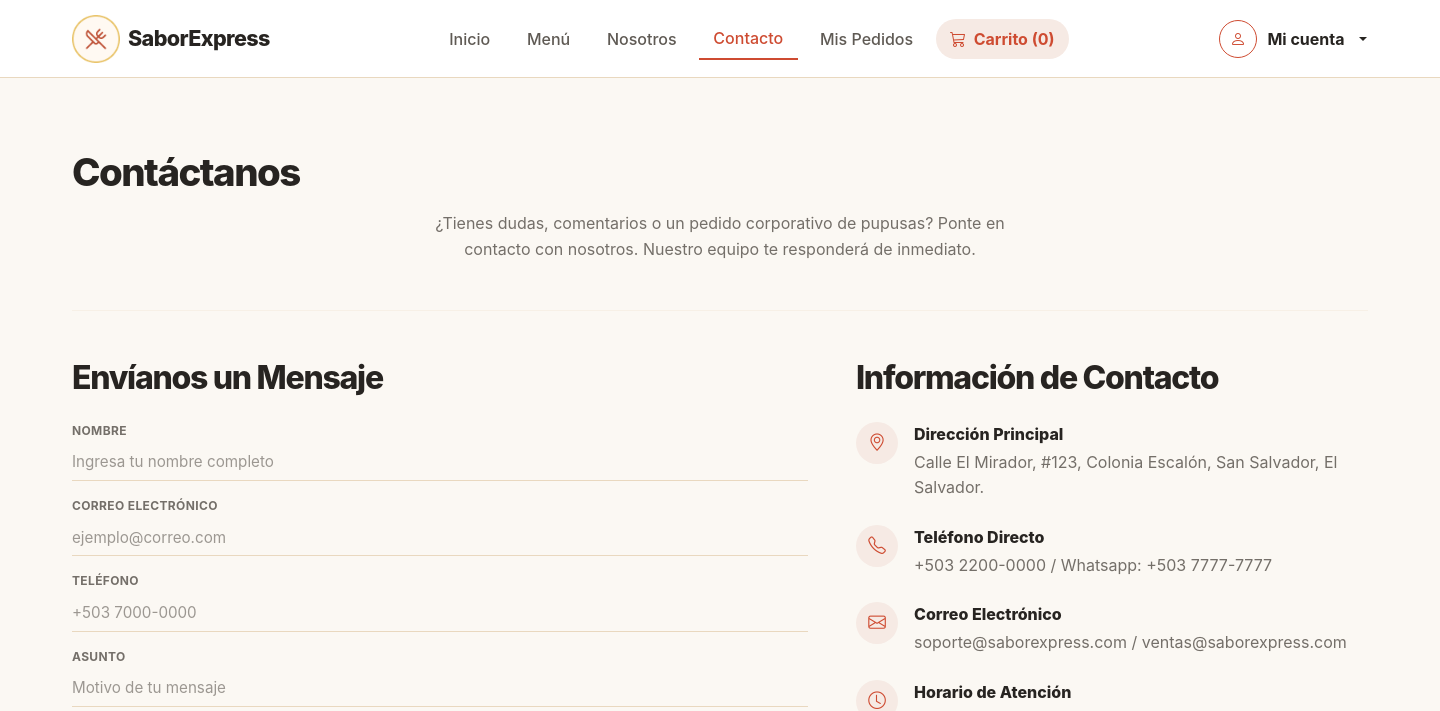
Contacto › envía, guarda el mensaje en el navegador, avisa y limpia el formulario
Type "Ana Martínez" into the field labelled "Nombre" at (440, 463), box [72,445,808,481]
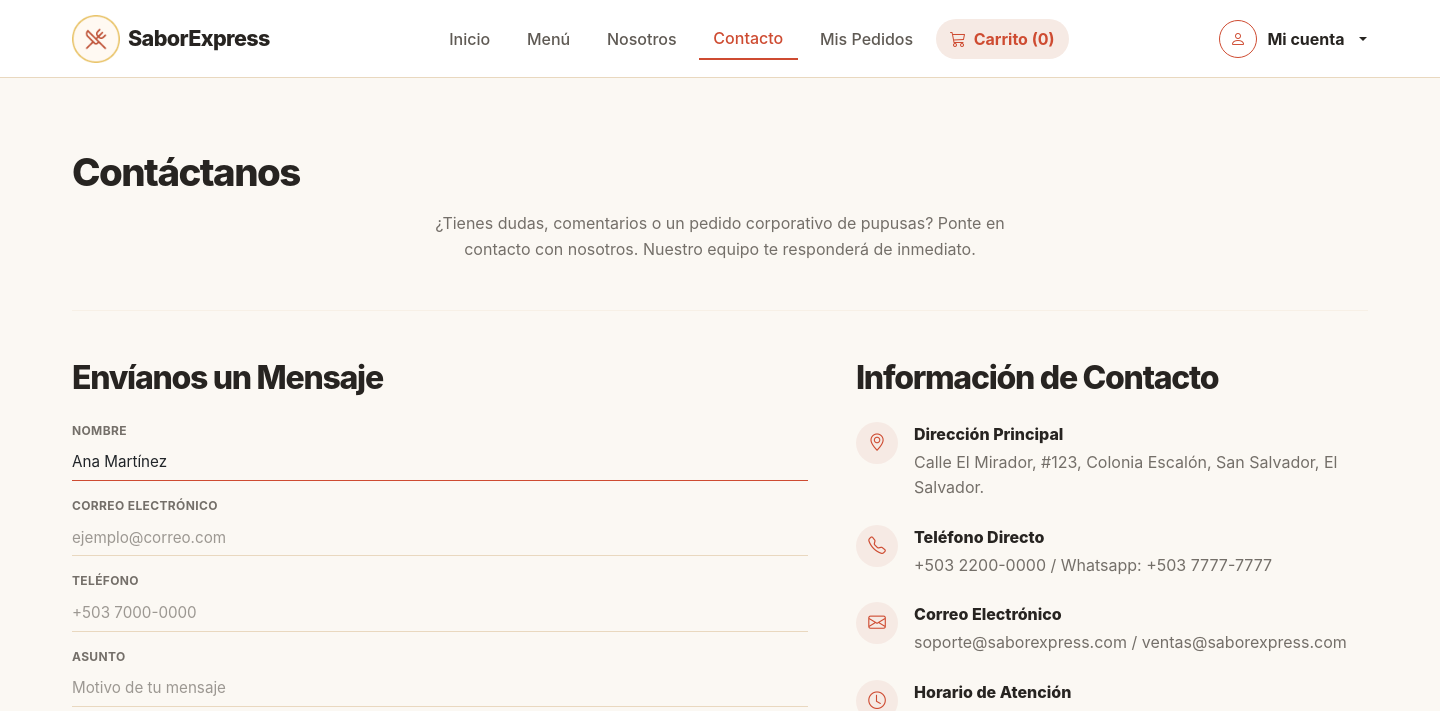
Type "ana@correo.com" into the field labelled "Correo Electrónico" at (440, 538), box [72,521,808,556]
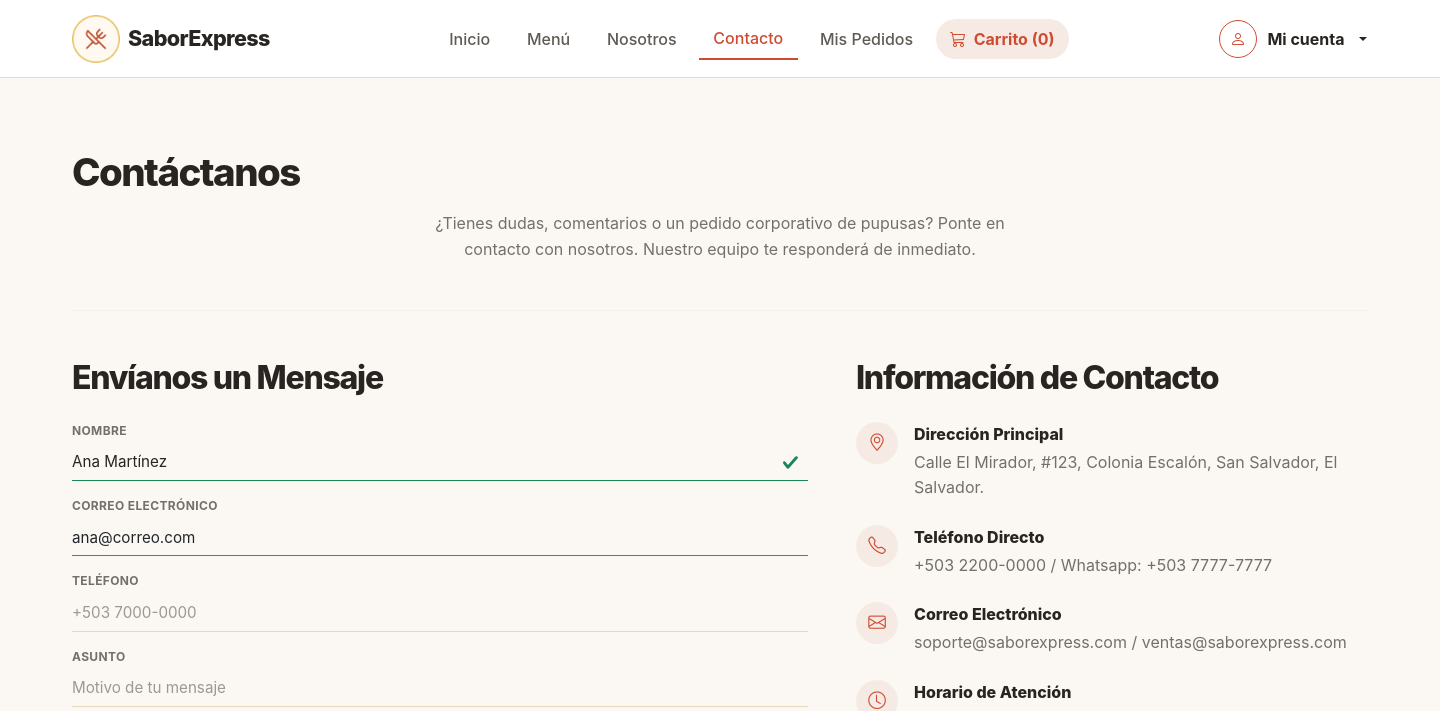
Type "78901234" into the field labelled "Teléfono" at (440, 614), box [72,596,808,632]
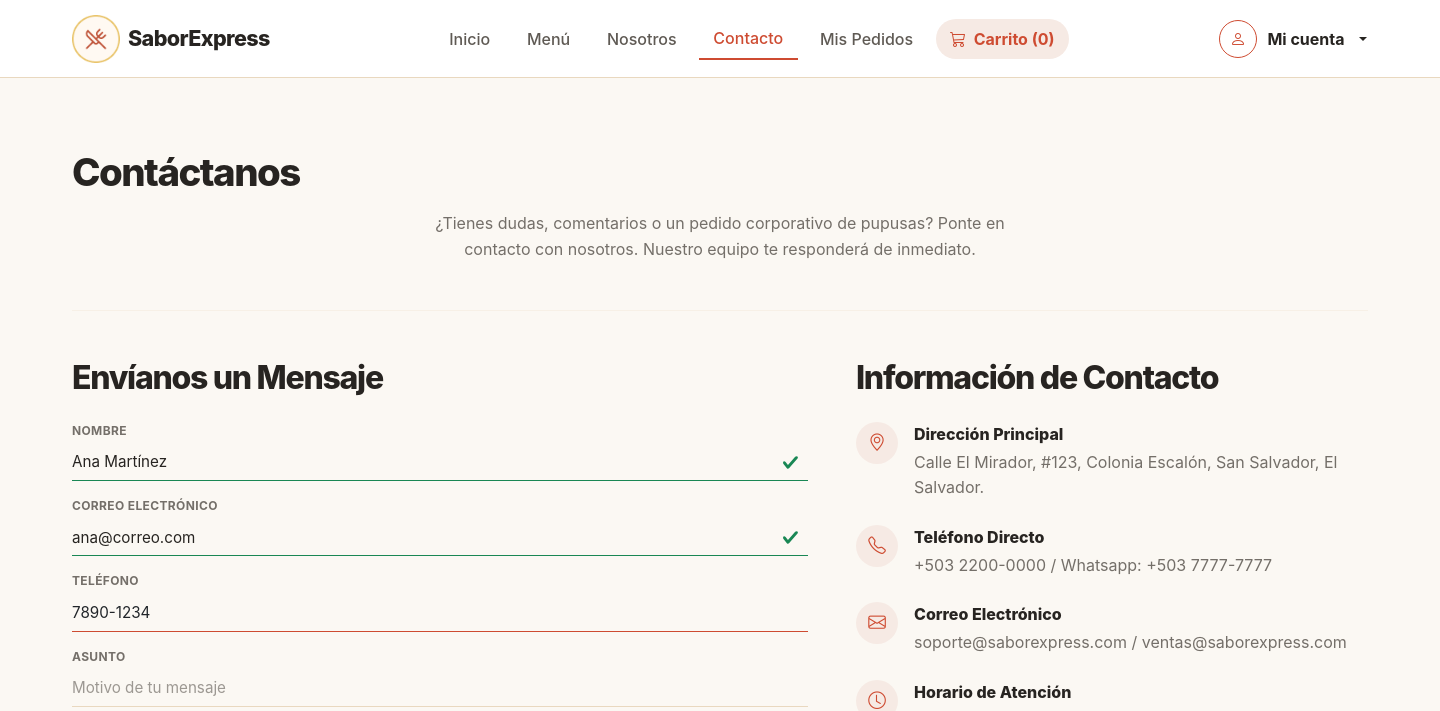
Type "Pedido para un evento" into the field labelled "Asunto" at (440, 689), box [72,671,808,707]
(page scrolled)
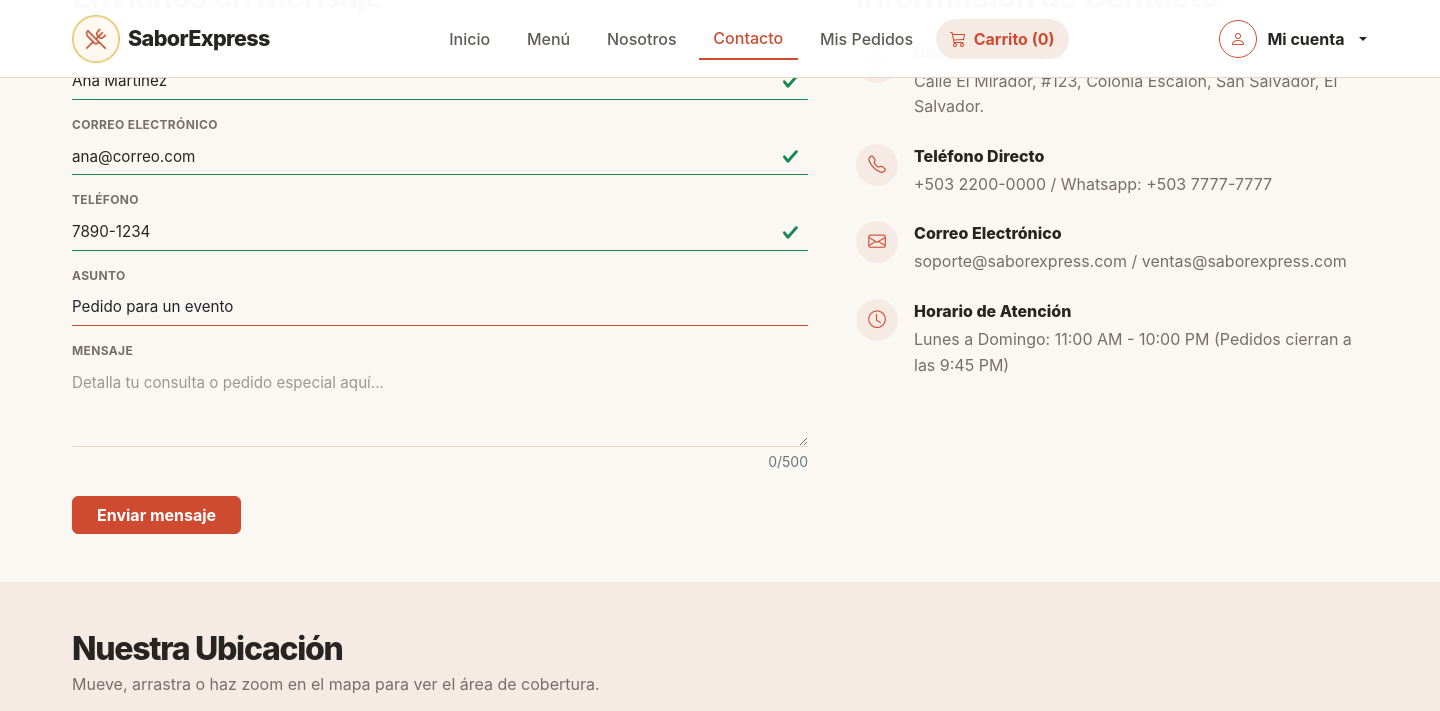
Type "Necesito cien pupusas para el sábado." into the text box labelled "Mensaje" at (440, 406), box [72,366,808,447]
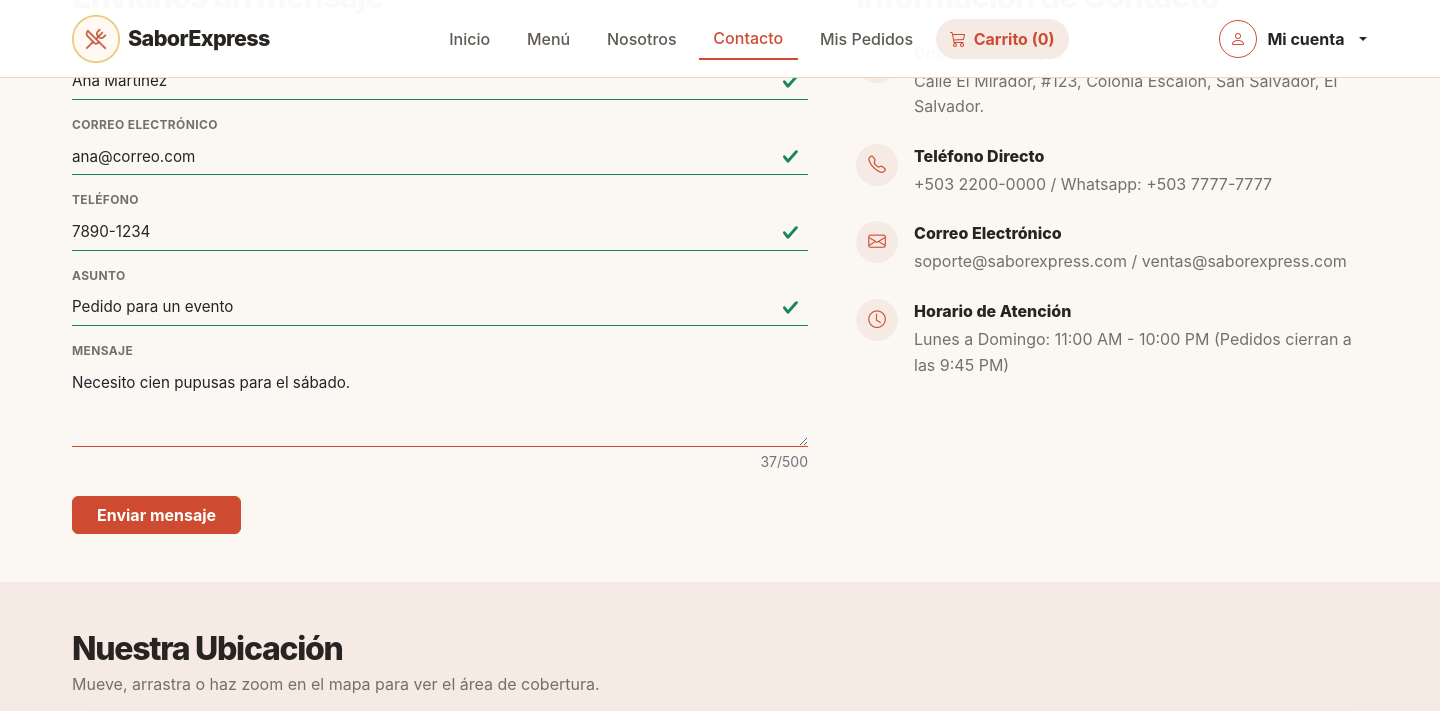
Click the button "Enviar mensaje" at (157, 515), box [72,496,241,534]
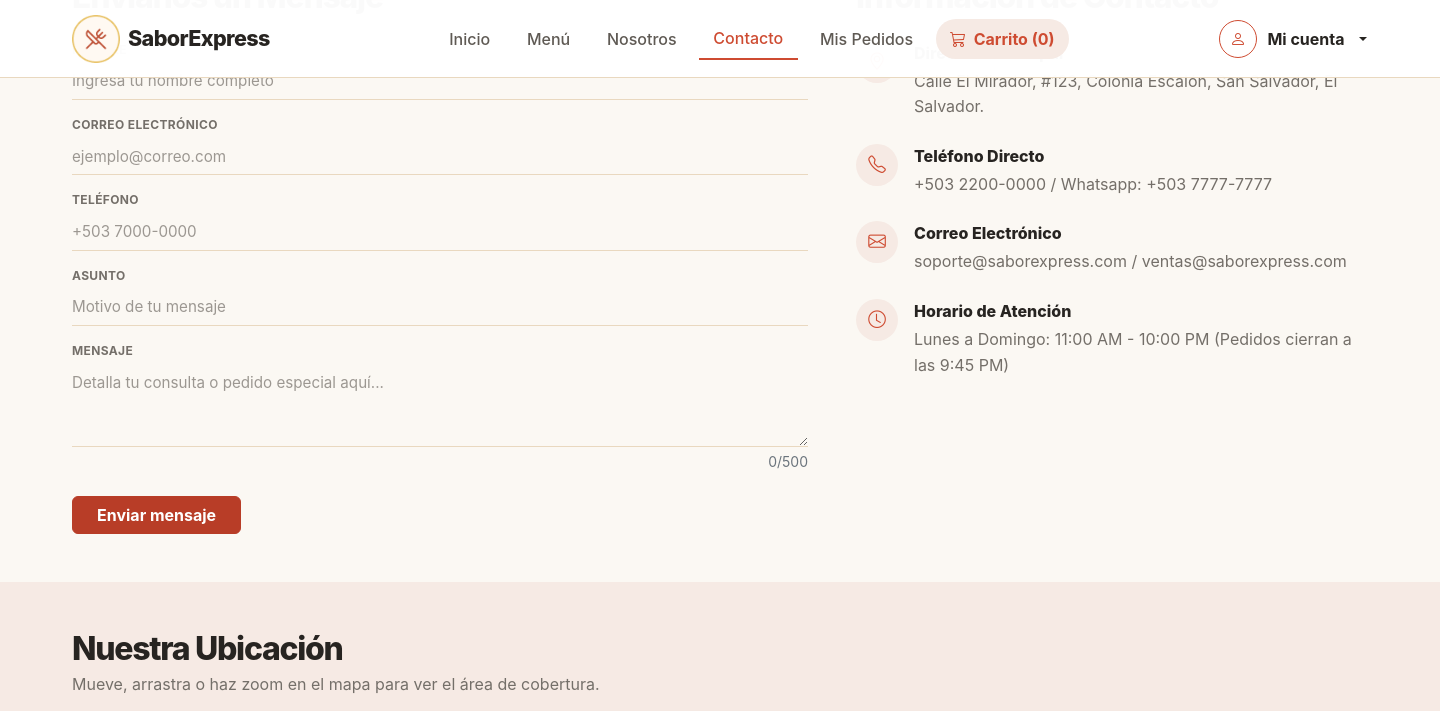
Expected: the text "0/500" is shown, [768,453,808,470]
